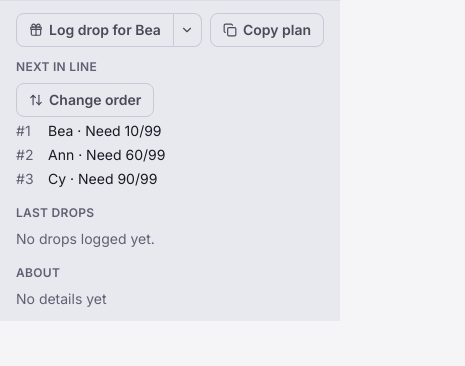
it: FarmExpansion: after a write (R-C-8, §3.3) › Log drop's main part follows the saved order after the refresh
Check: the button "Log drop for Bea" is shown, box top-left (16, 13), bottom-right (174, 47)
Click the button "Change order" at (85, 100), box top-left (16, 83), bottom-right (154, 117)
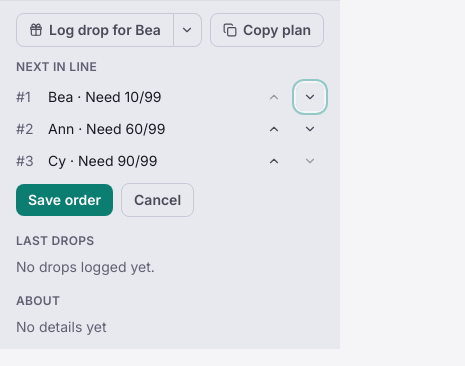
Click the button named "Move Ann up" at (274, 129), box top-left (260, 115), bottom-right (288, 143)
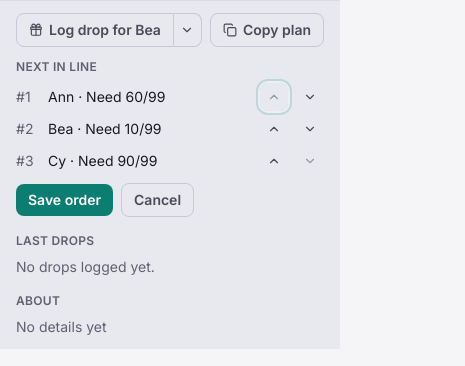
Click the button "Save order" at (64, 200), box top-left (16, 184), bottom-right (113, 216)
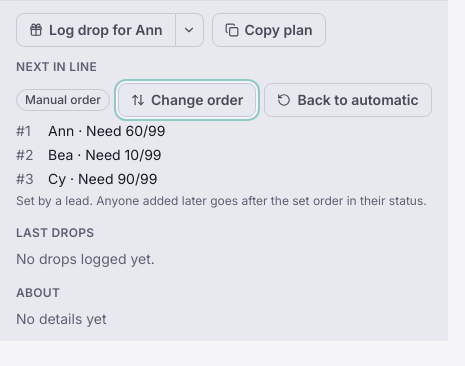
Check: the button "Log drop for Ann" is shown, box top-left (16, 13), bottom-right (176, 47)
Check: the button "Log drop for Bea" is gone
